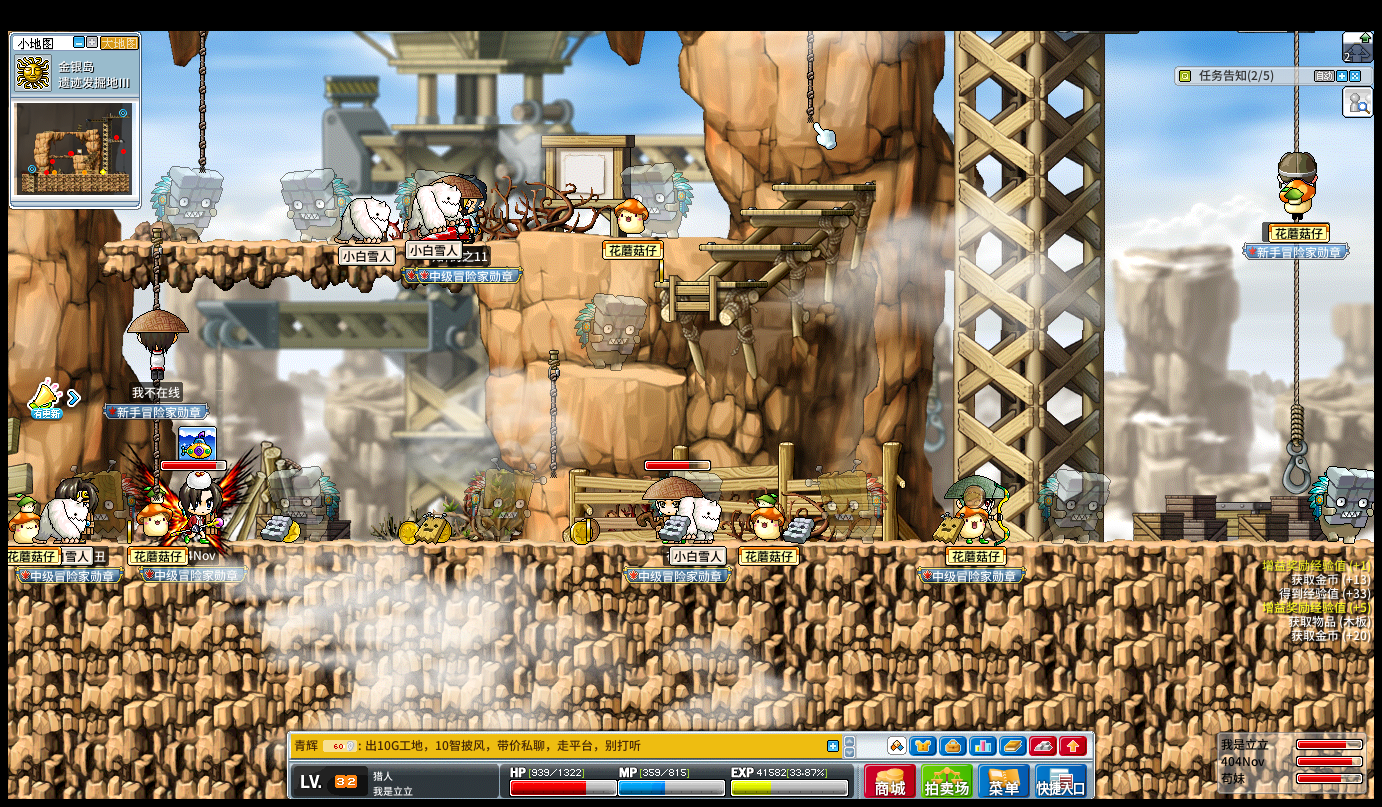floor: (101, 237, 472, 249), (576, 364, 688, 385), (582, 233, 732, 241), (738, 205, 853, 215), (650, 279, 767, 288), (695, 243, 810, 251), (736, 207, 849, 215), (771, 184, 875, 191)
monster: (814, 462, 887, 542), (573, 291, 646, 370), (148, 166, 224, 241), (461, 463, 531, 543), (279, 167, 353, 241), (1038, 467, 1107, 543), (1309, 464, 1374, 542), (625, 161, 694, 233), (290, 467, 342, 542)
rope: (544, 353, 559, 481), (1291, 257, 1302, 407), (198, 30, 207, 171), (150, 231, 162, 308), (804, 29, 813, 123), (1292, 29, 1299, 148), (1289, 400, 1304, 443), (150, 418, 157, 483)
